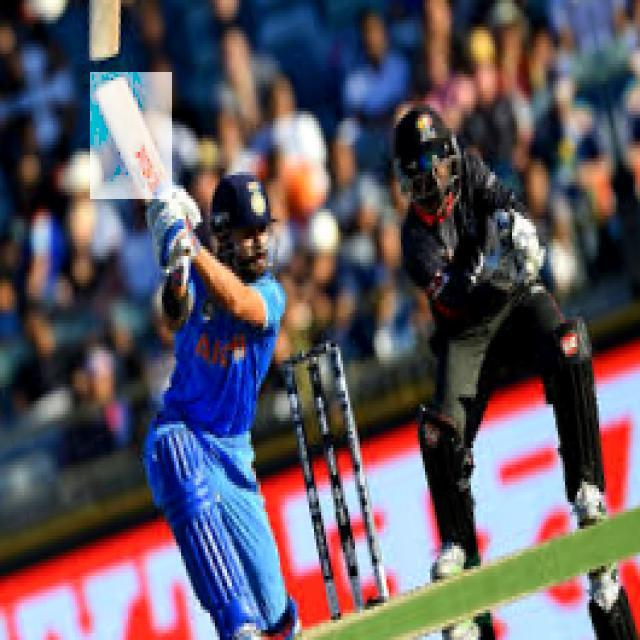bat: (91, 73, 174, 200)
